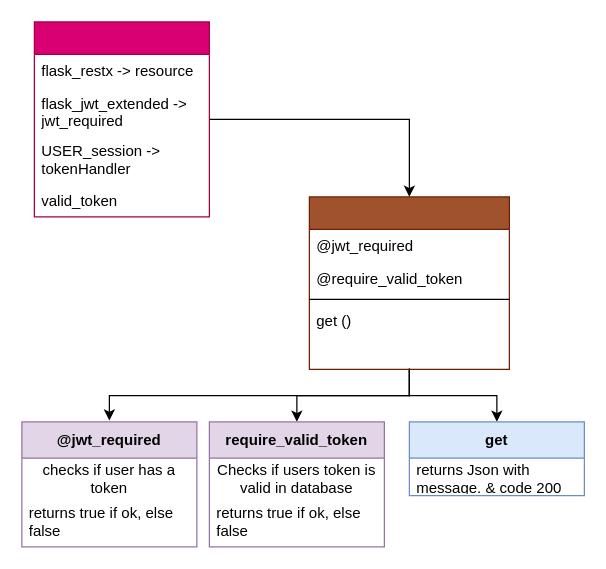
The diagram is 606 pixels wide and 569 high, and some of its shapes have lost their labels. Each missing label, with the box of its shape:
Imports: (33, 21, 209, 217)
test@api/test: (308, 196, 509, 369)
